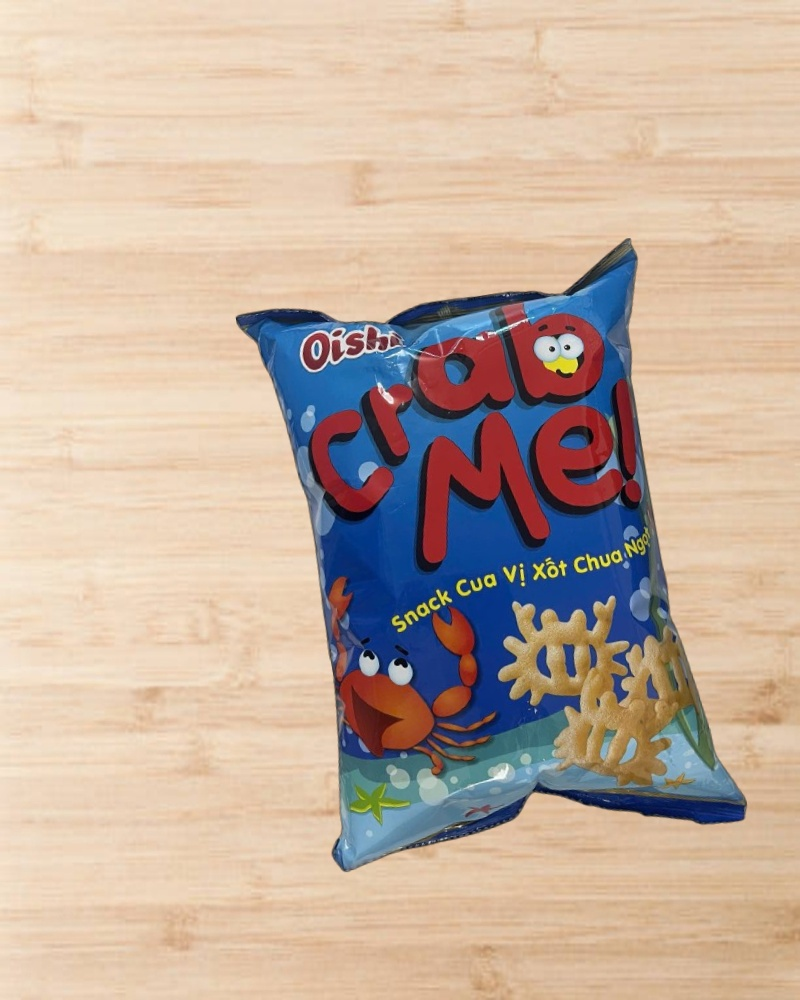Snack cua: (235, 236, 749, 886)
